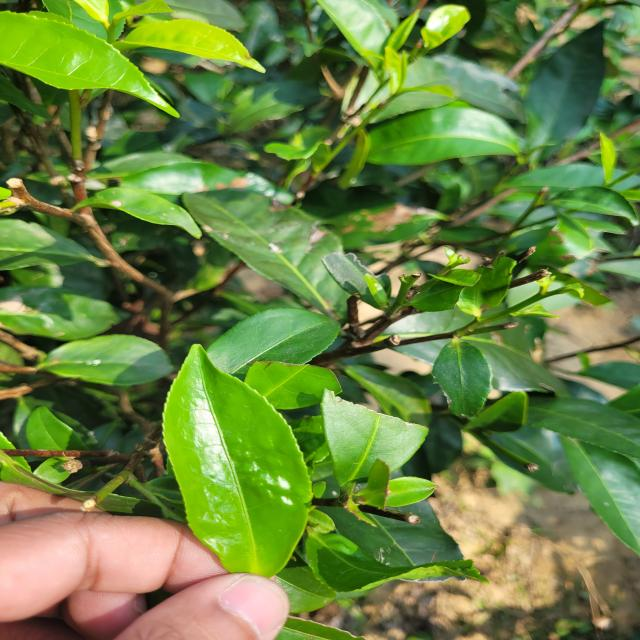Catagory A(1-2 days): (154, 338, 358, 584)
